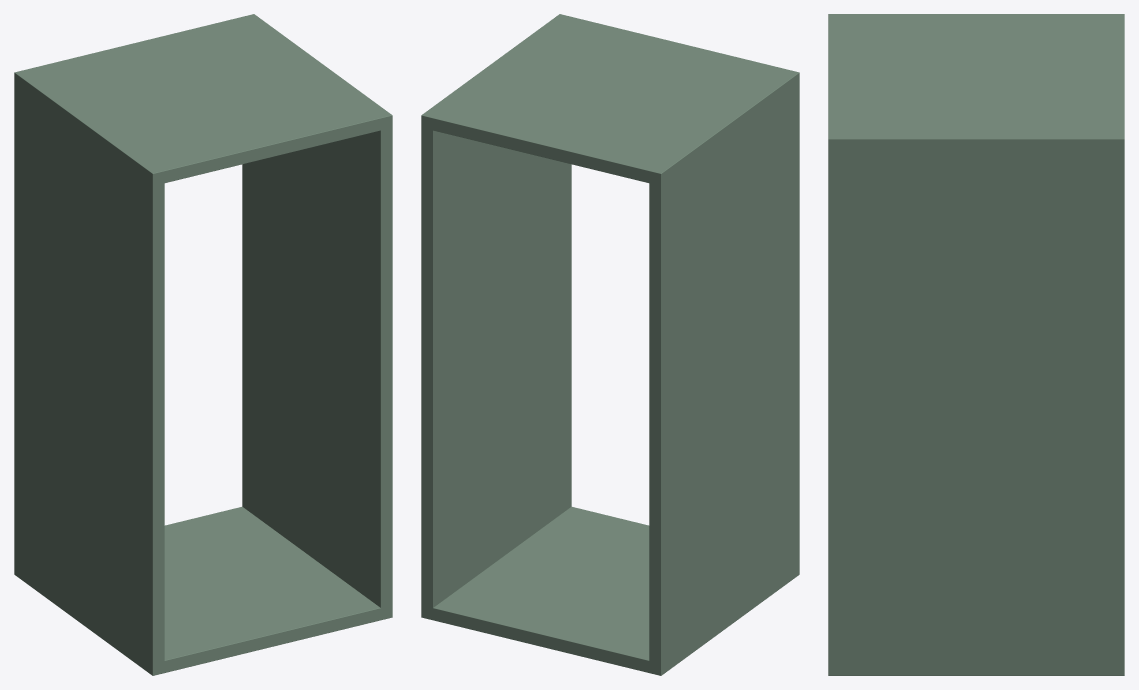
The model's file is MOD_1X2_A_O_VA.glb.
3 renders of one model, left to right at view 1: azimuth 30°, elevation 25°; view 2: azimuth 150°, elevation 25°; view 3: azimuth 270°, elevation 25°, orthographic. The views are drawn at different scales.
Bounding box in the file's own units: 360 × 720 × 360.
